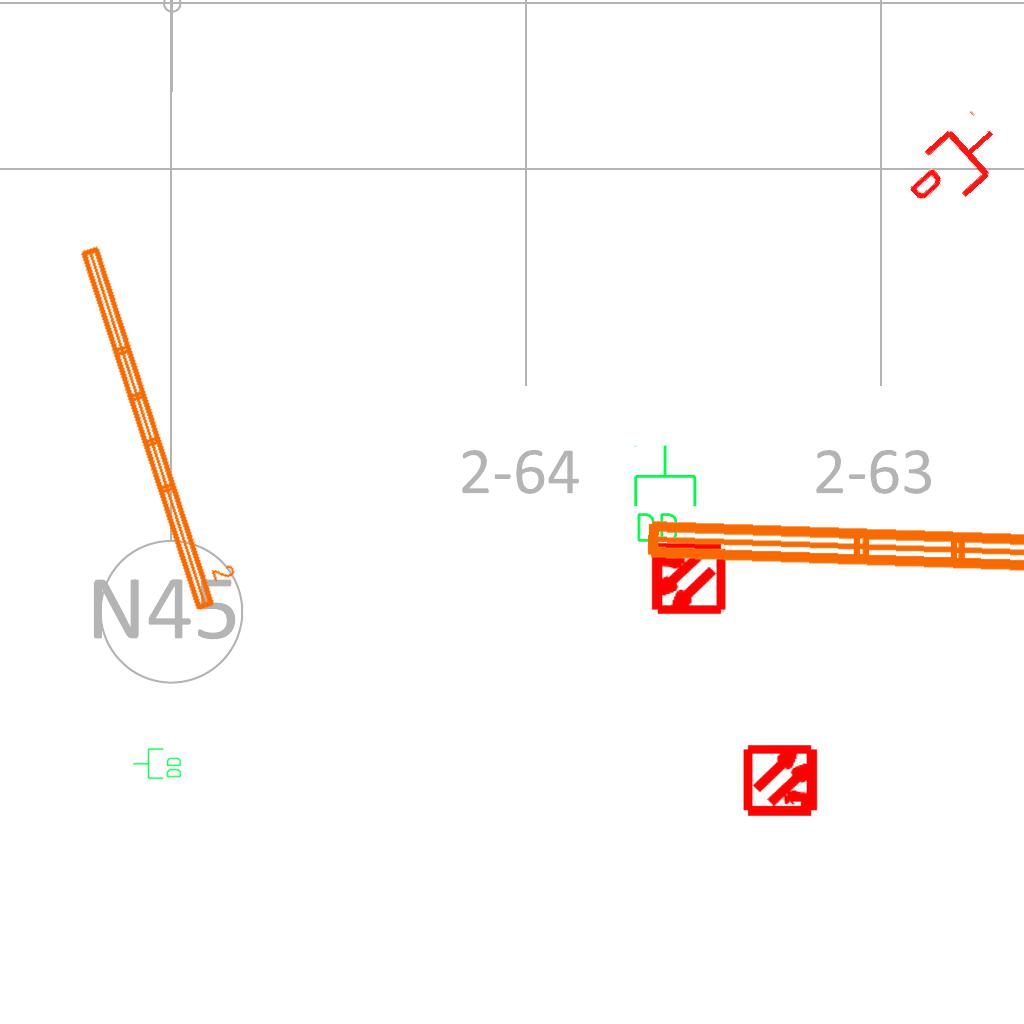Ambulanz_Pendelleuchte_LED: (73, 231, 246, 617), (636, 457, 1024, 597)
Datenanschluss_einfach: (895, 105, 1016, 225)
Datenanschluss_zweifach: (630, 443, 699, 546), (132, 747, 183, 781)
OT_Multisensormelder_(Kombination_RMO_WMD): (726, 724, 839, 837), (630, 522, 743, 635)
